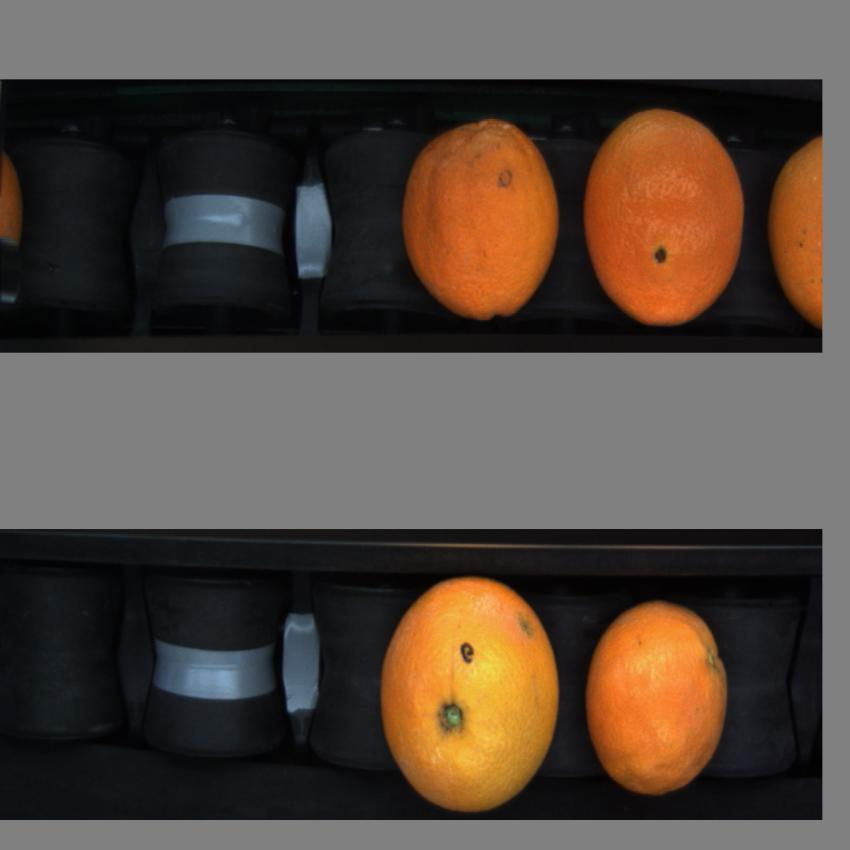Buen estado: (378, 571, 566, 815), (577, 100, 748, 332), (391, 115, 565, 325), (582, 596, 734, 804), (762, 120, 825, 334)
